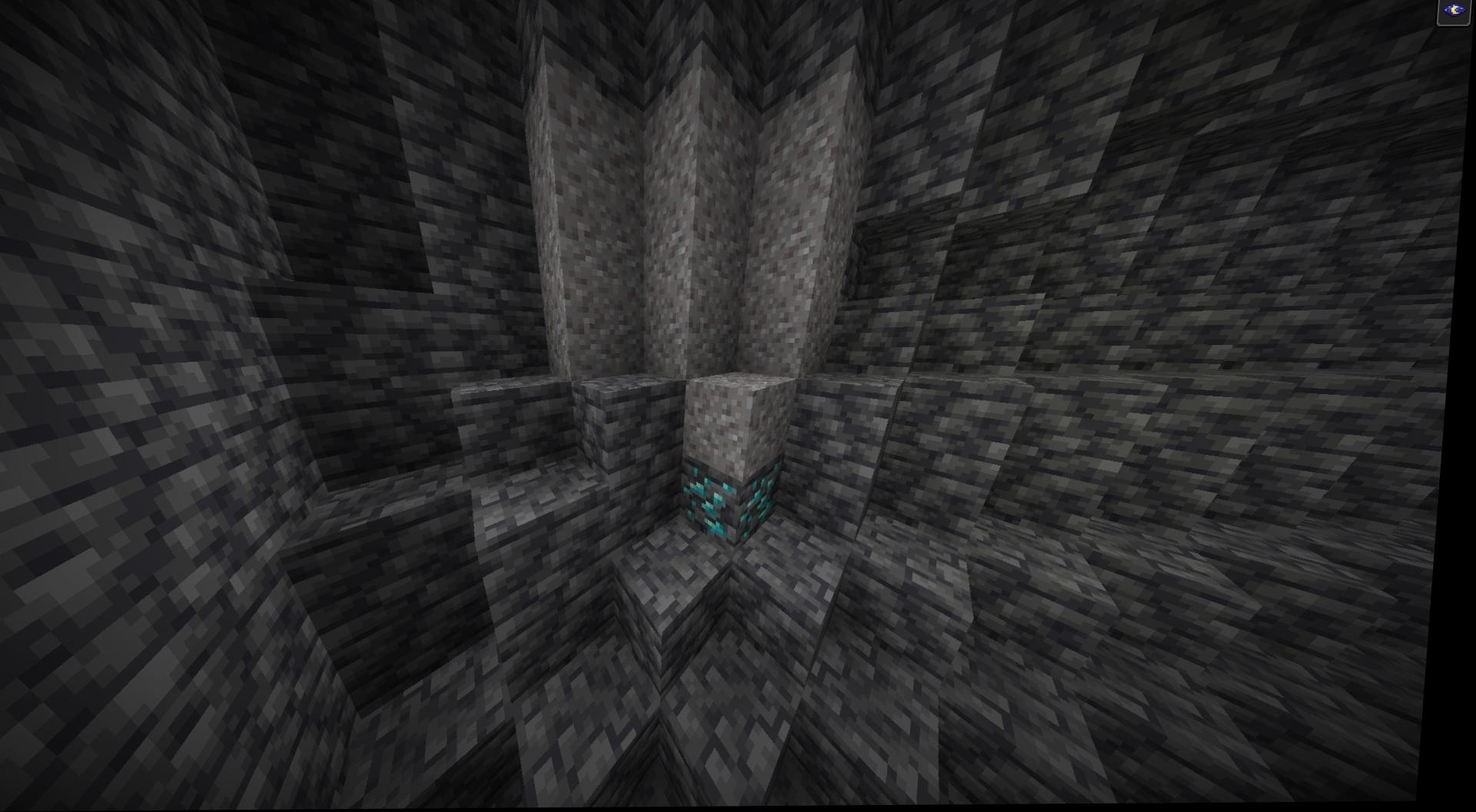diamond ore: (680, 458, 748, 545), (745, 455, 795, 545)
